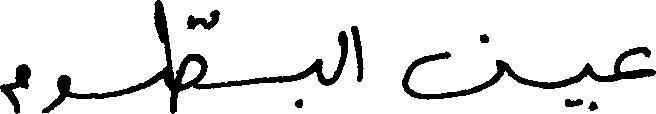X: (155, 0, 207, 113), (614, 42, 655, 85), (0, 59, 30, 113), (42, 70, 70, 113), (335, 26, 346, 86), (353, 21, 363, 86), (582, 58, 592, 113), (312, 54, 323, 89), (402, 70, 404, 95)
